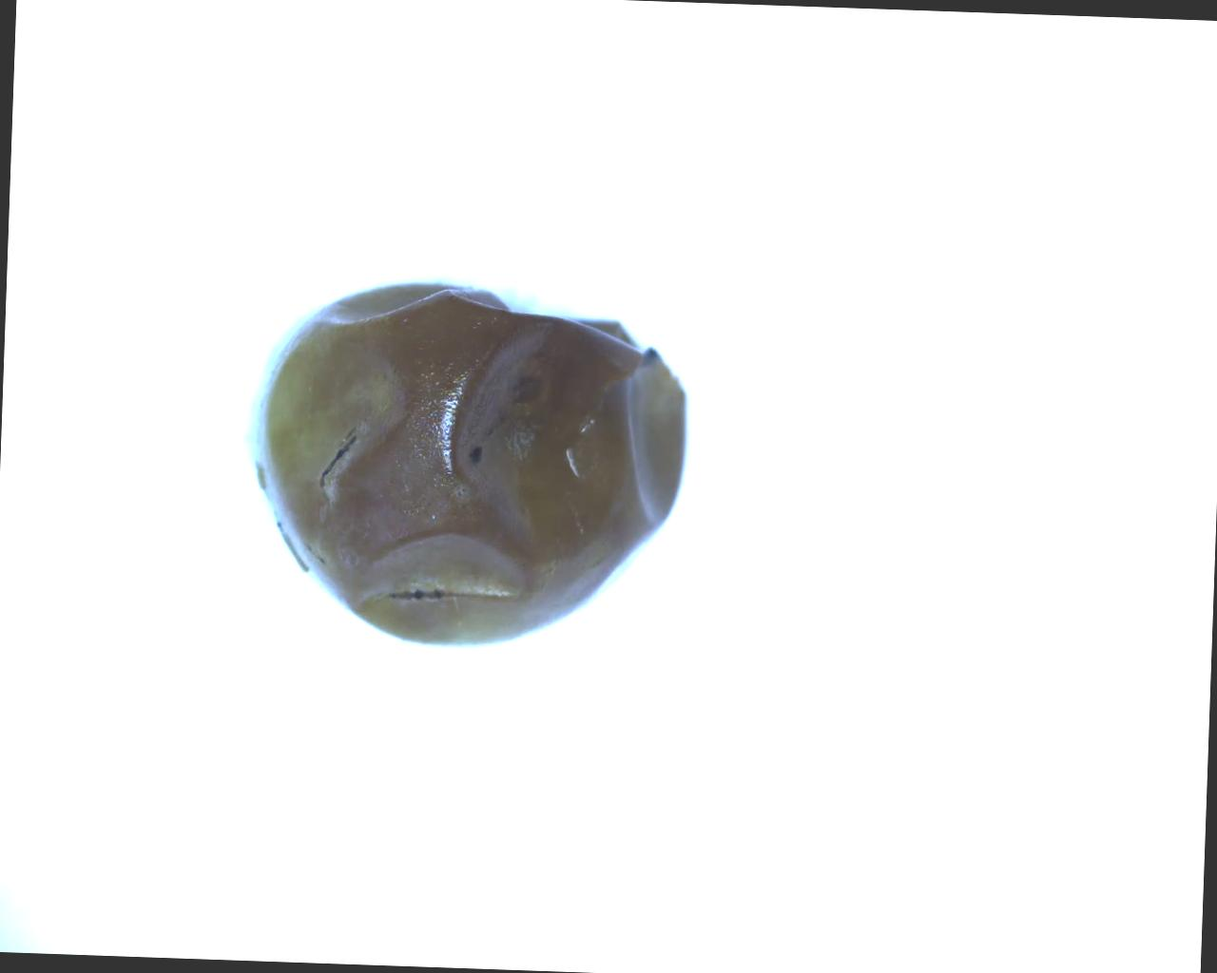Grape Rotten: (242, 273, 694, 656)
